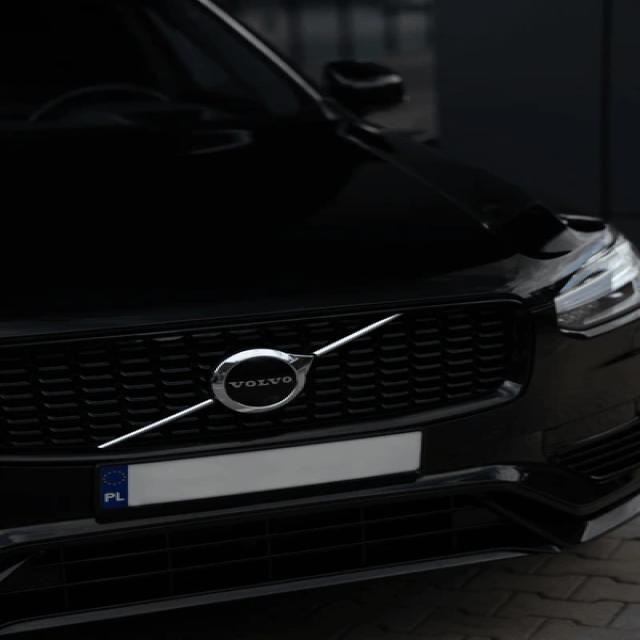volvo: (206, 343, 321, 418)
